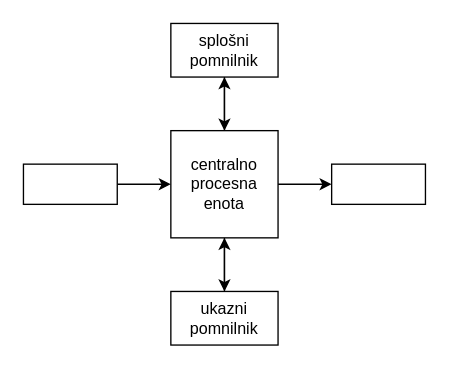
The diagram is 449 pixels wide and 369 high, and some of its shapes have lost their labels. The shapes that lost their labels are listed below. From the top down, each one's box as (x1, y1, x2, y2) in pixels, then its label:
(22, 163, 117, 204): vhod
(330, 163, 425, 204): izhod
